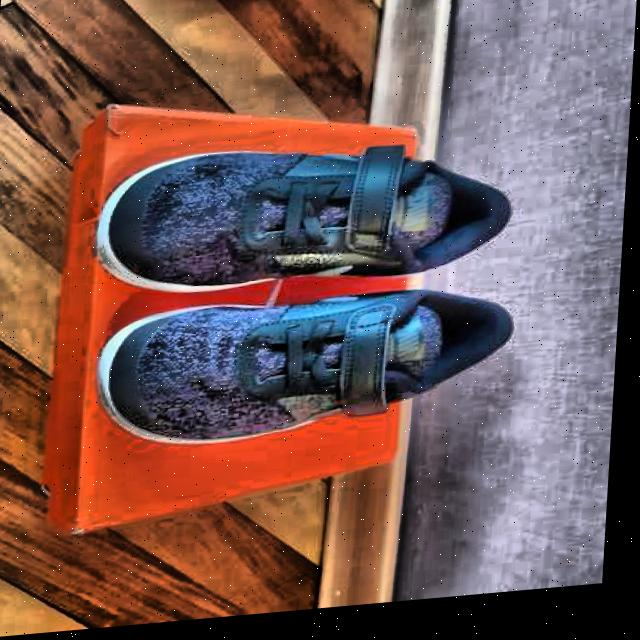shoes: (52, 71, 542, 535)
